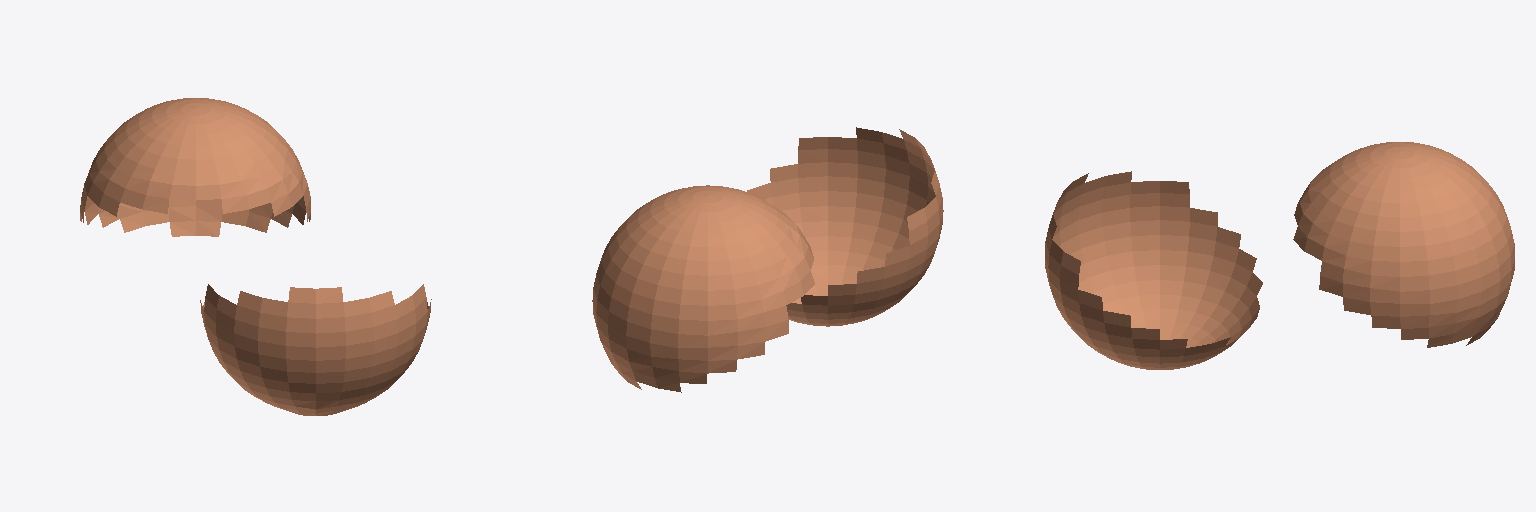
Rendered from easter-egg.obj.
3 views of the same model, side by side, from view 1: azimuth 30°, elevation 25°; view 2: azimuth 150°, elevation 25°; view 3: azimuth 270°, elevation 25° (orthographic).
Parts seen in each view (by area): view 1: Sphere; view 2: Sphere; view 3: Sphere.
Part boxes in pixels (x1,y1,x2,y2): Sphere: (80,98,431,415); Sphere: (592,127,943,392); Sphere: (1045,142,1514,369).
Size of the model in its own units: 1 by 0.9896 by 2.04.